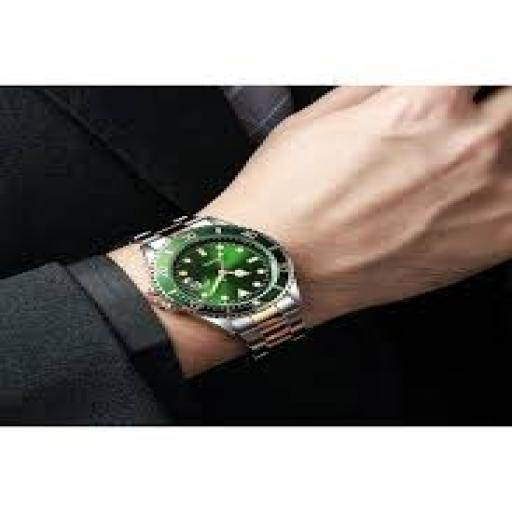KolSaati: (117, 172, 339, 372)
